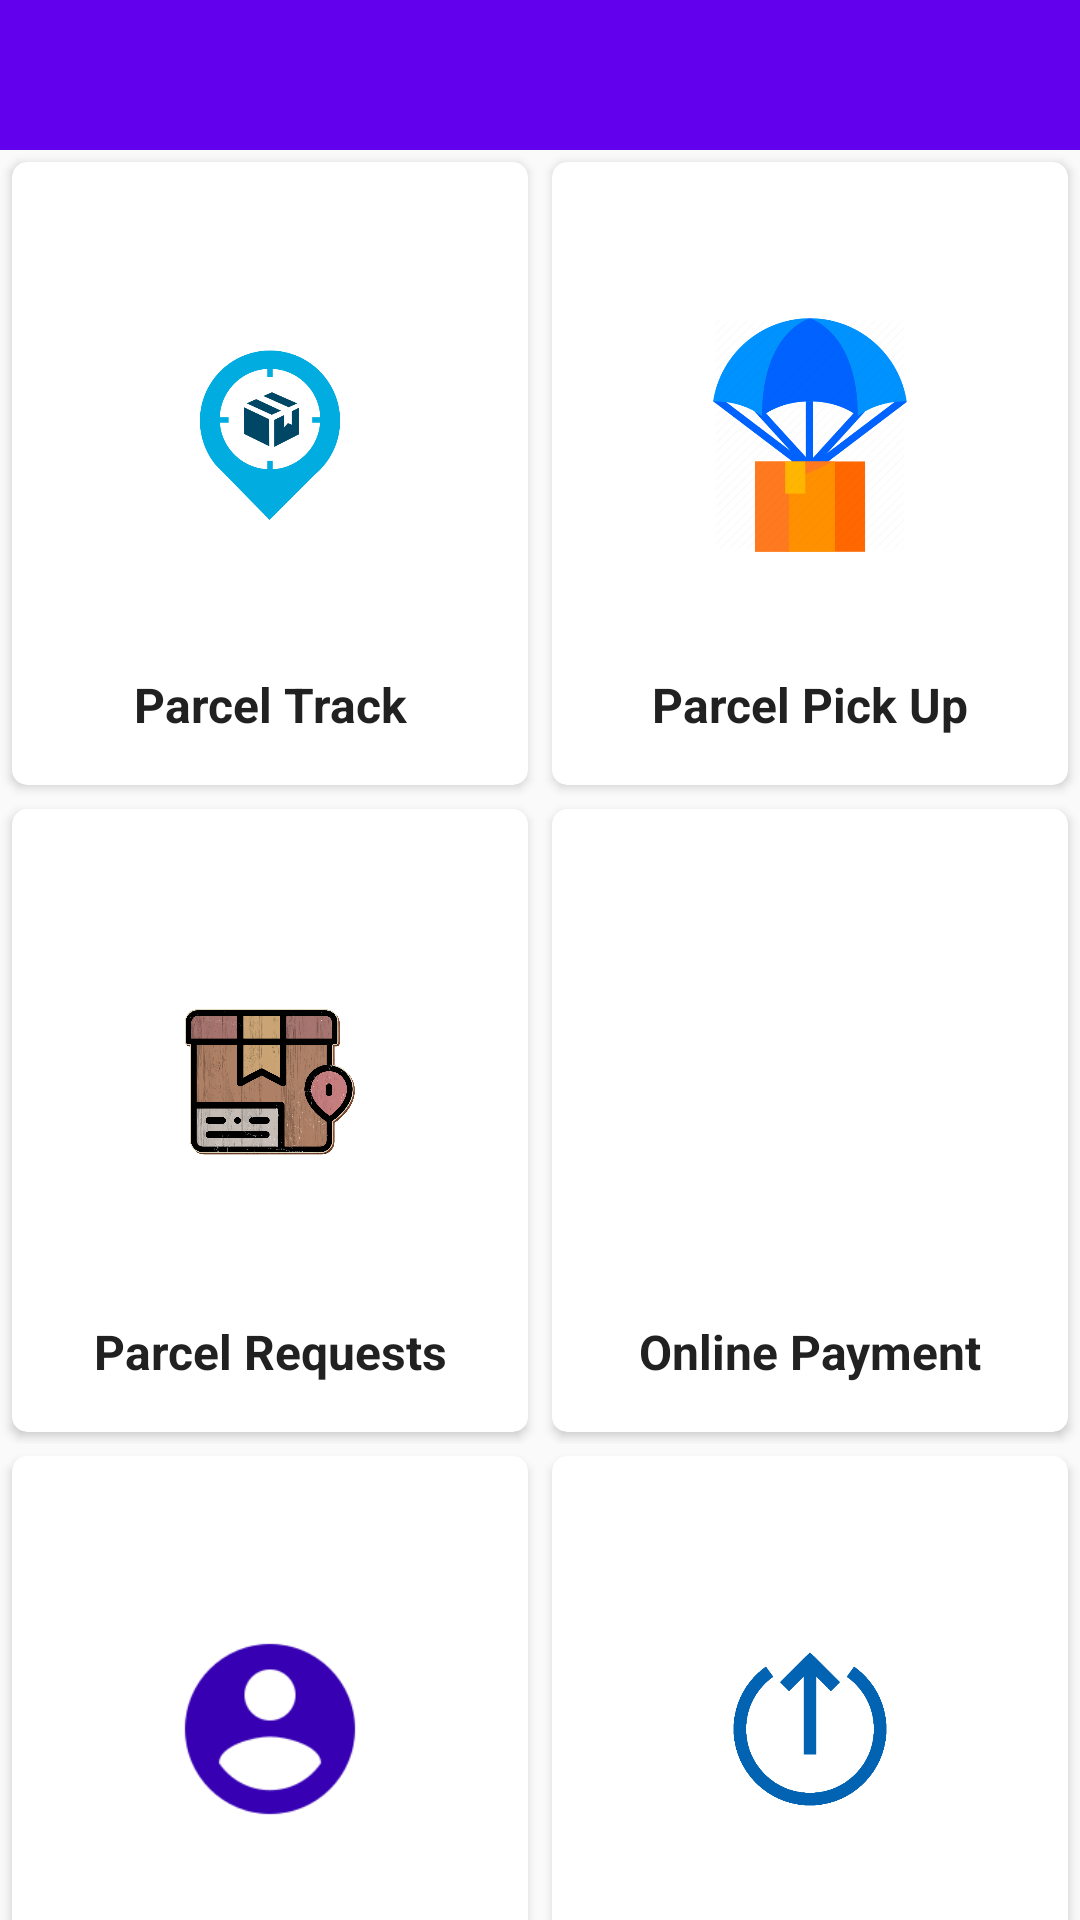

Icons on this 1080px x 1920px Android screen, each with its box as [left=x1, top=y1, right=x2, bottom=y2]:
account circle: [left=184, top=1643, right=356, bottom=1815]
